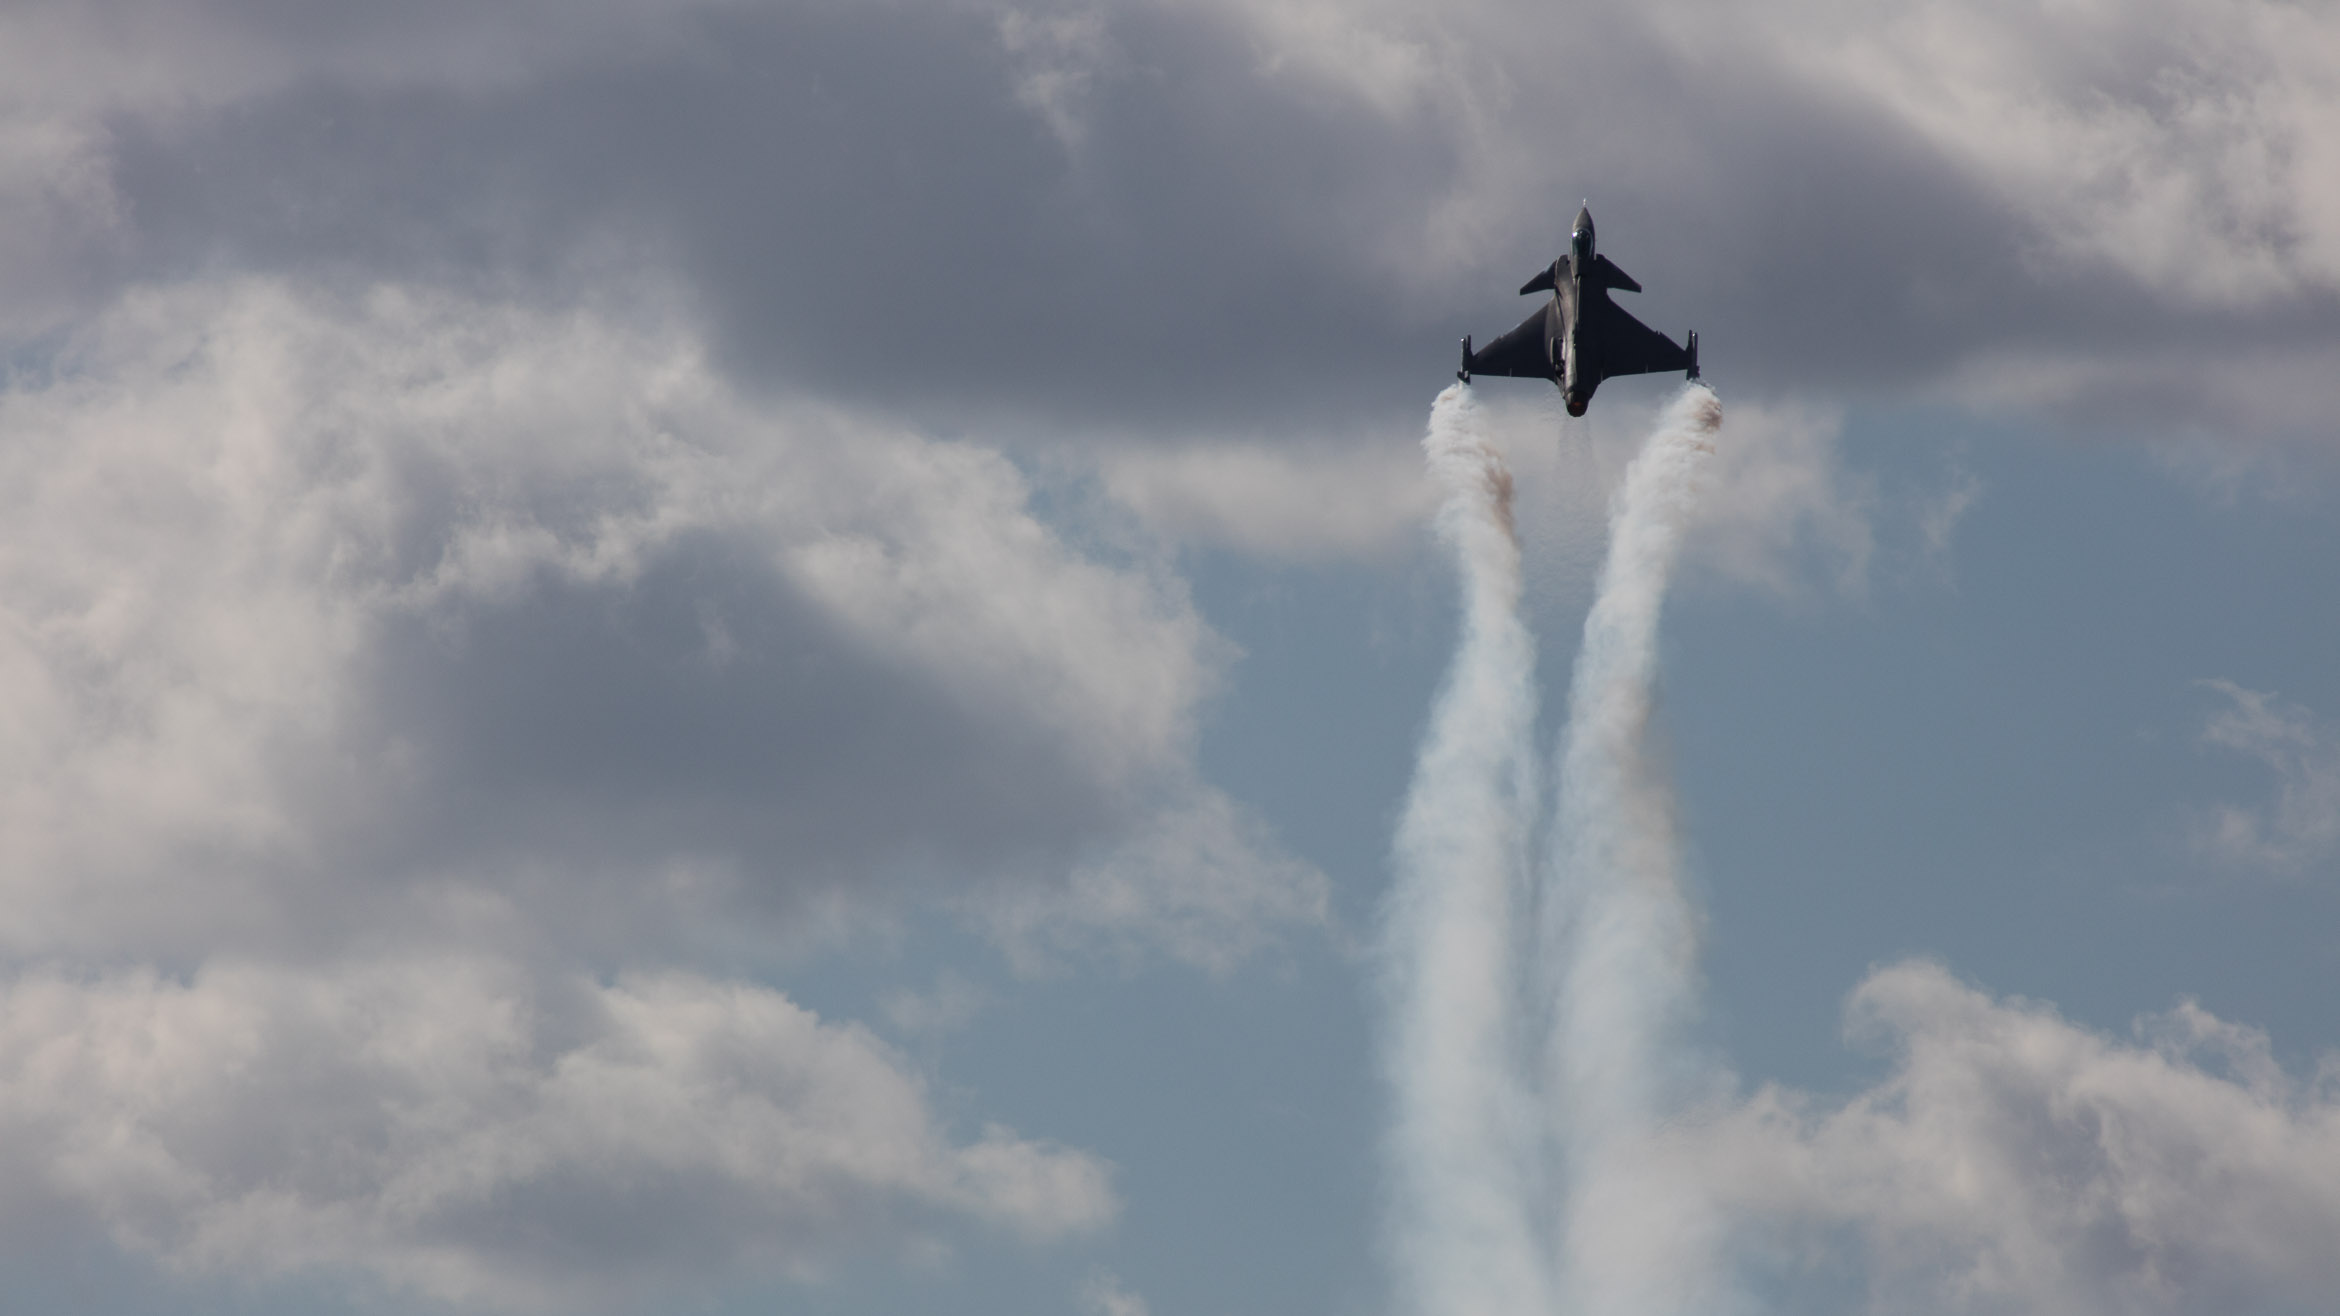JAS39: (1456, 196, 1700, 418)
